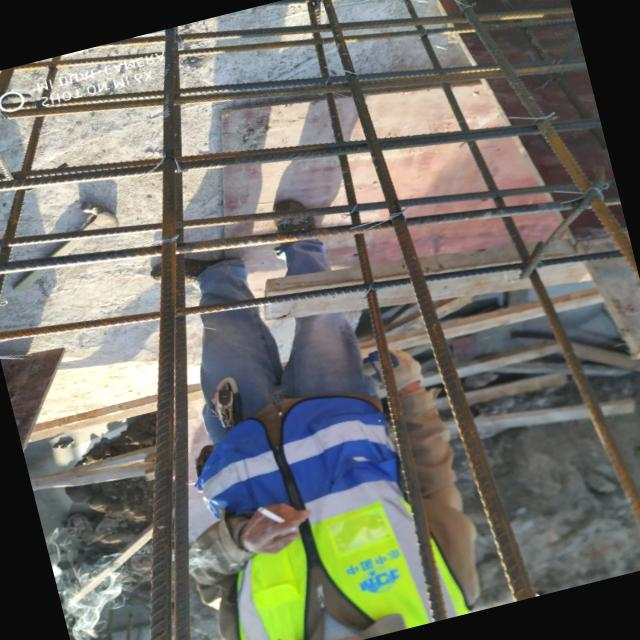cigarette: (250, 492, 298, 536)
